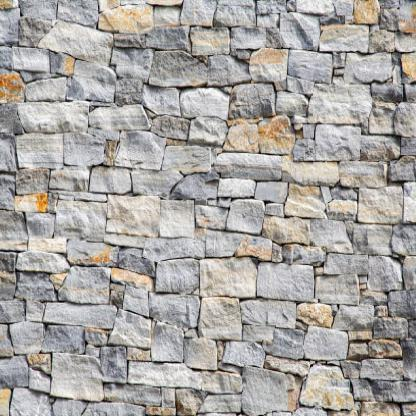Sedimentary_Sandstone: (304, 78, 374, 128), (103, 186, 160, 240), (195, 254, 258, 301), (252, 259, 316, 303), (15, 98, 95, 133), (216, 144, 282, 184), (14, 126, 67, 174), (41, 297, 119, 329), (148, 47, 210, 87), (70, 53, 118, 104), (147, 288, 202, 330), (277, 153, 344, 186), (307, 217, 366, 254), (114, 128, 165, 170), (246, 42, 288, 86), (303, 323, 348, 364), (226, 192, 262, 236), (16, 247, 71, 274), (182, 84, 227, 116), (224, 336, 265, 369), (182, 335, 216, 366)
